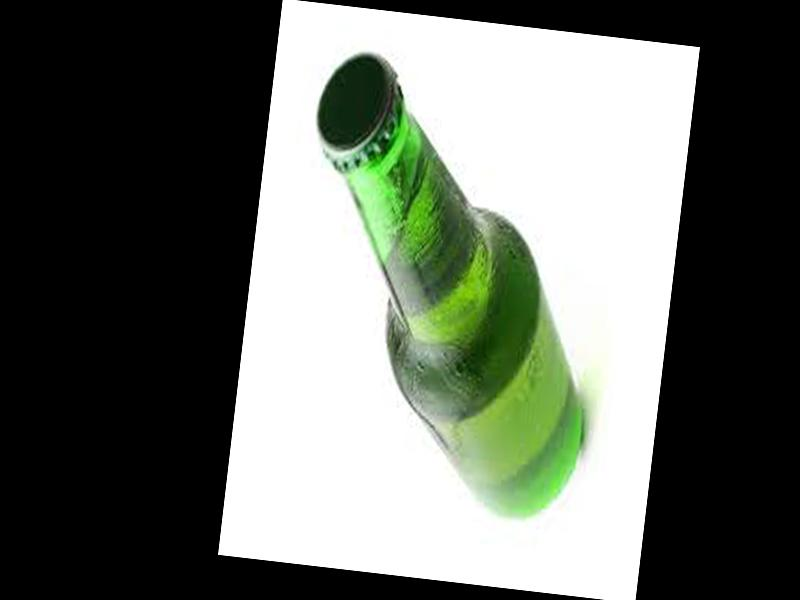Beer: (274, 47, 625, 527)
